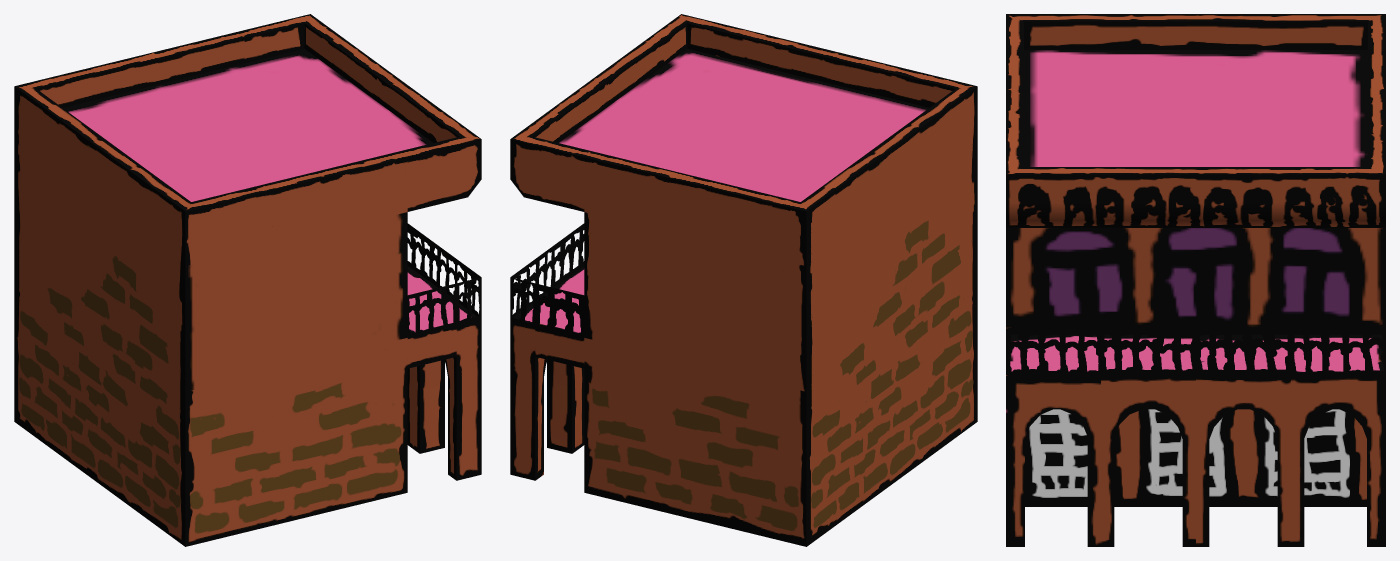
File: SM_RedBuilding1.fbx
3 views of the same model, side by side, from view 1: azimuth 30°, elevation 25°; view 2: azimuth 150°, elevation 25°; view 3: azimuth 270°, elevation 25° (orthographic). The views are drawn at different scales.
Parts seen in each view (by area): view 1: pCube3; view 2: pCube3; view 3: pCube3.
Boxes of the visible parts, x1,y1,x2,y2 form: pCube3: (14,14,481,546); pCube3: (510,14,977,546); pCube3: (1006,14,1385,546).
Size of the model in its own units: 400 by 433 by 400.
